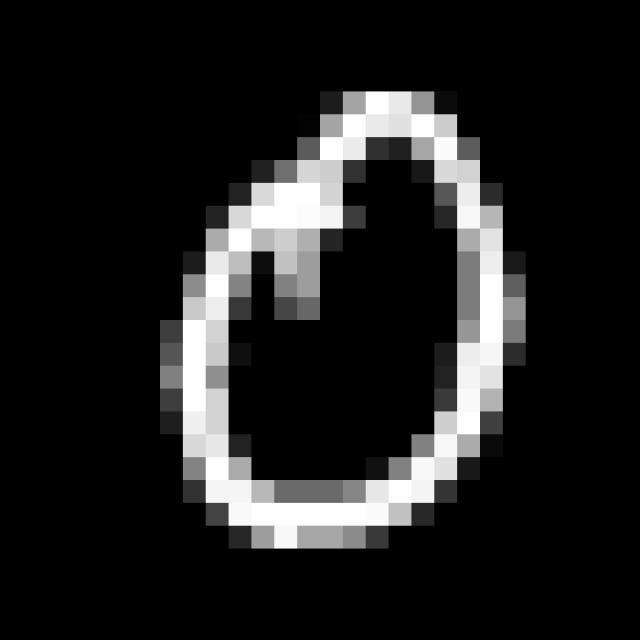zero -0-: (146, 71, 537, 571)
